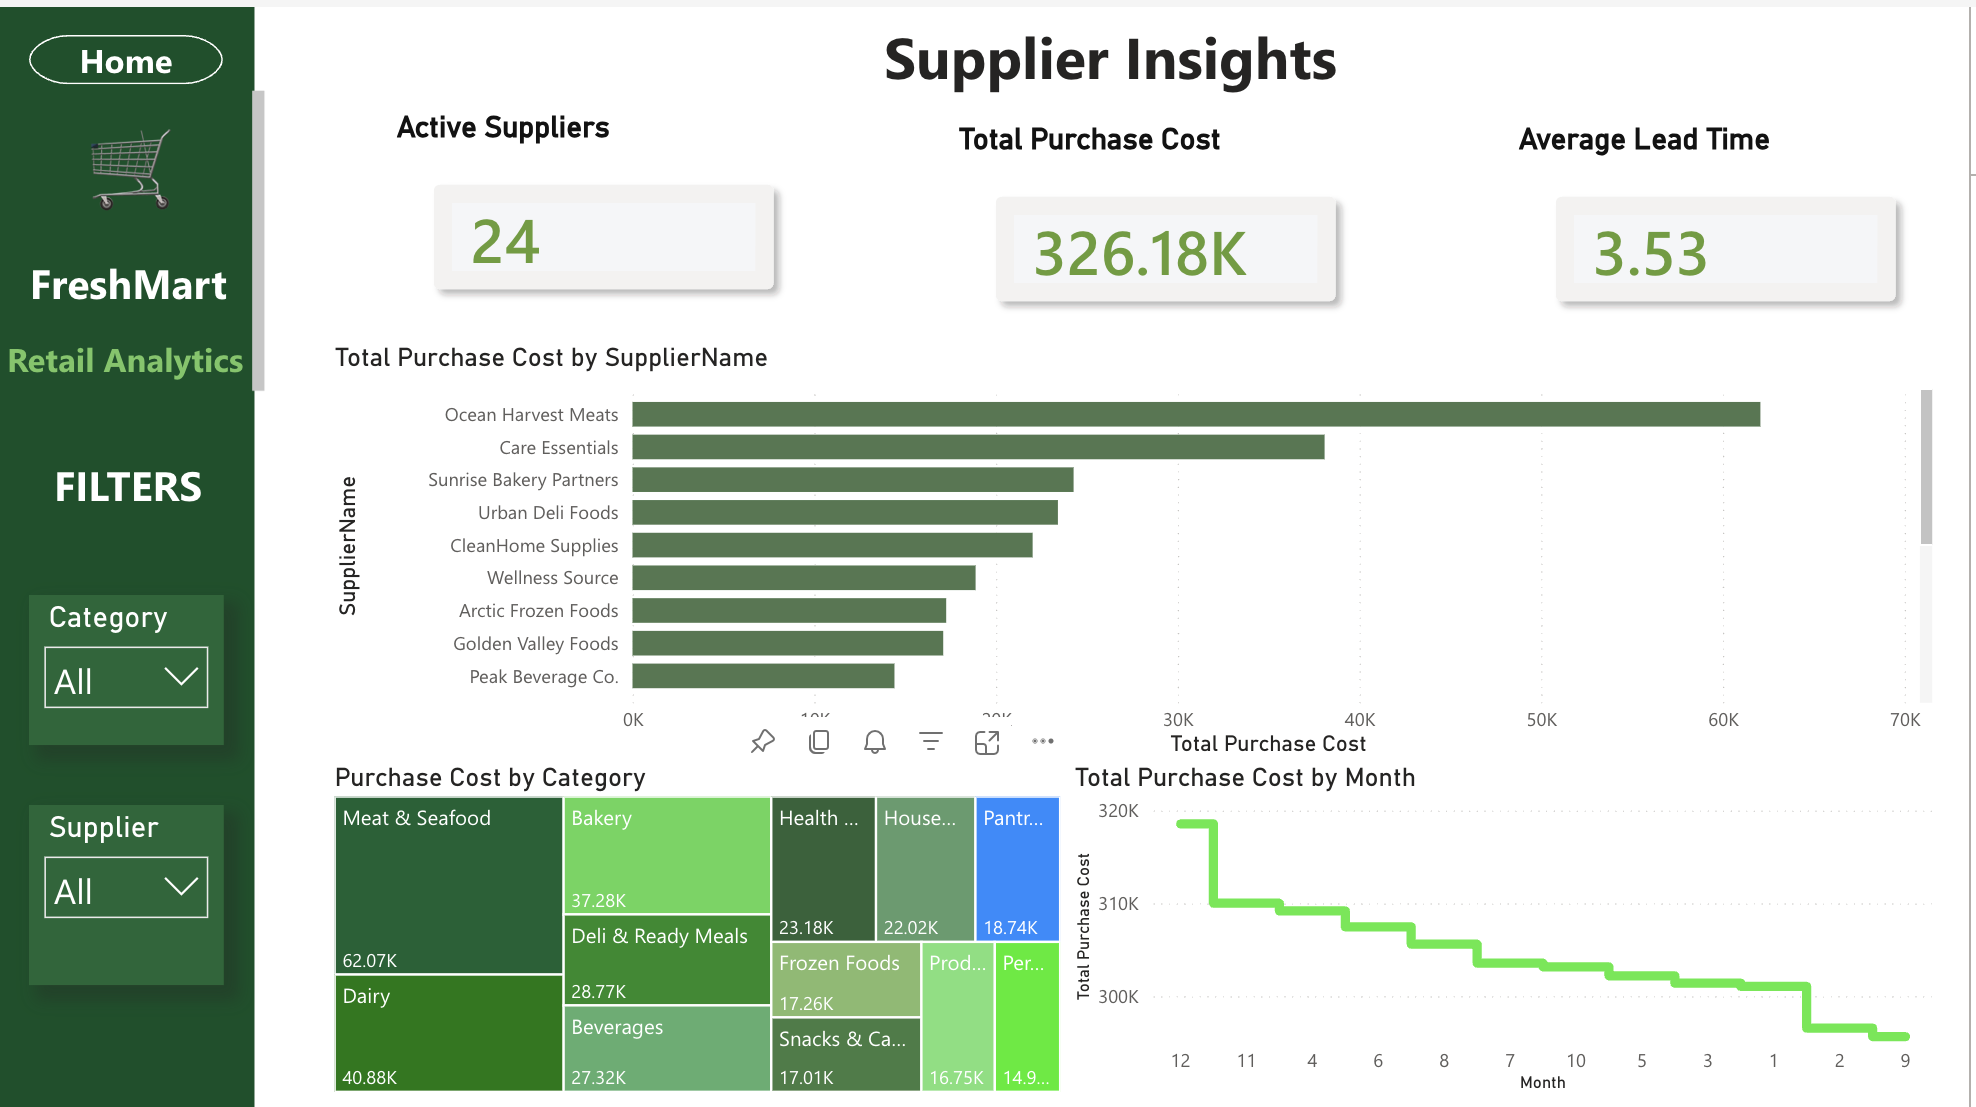

The dashboard page shown, as its layout file describes it:
{"tool":"powerbi","page":{"name":"Supplier Insights","canvas":[1280,720],"ordinal":4},"visuals":[{"type":"textbox","box":[353.2,1.7,737.3,67.2],"z":0},{"type":"shape","box":[0,0,166.1,719.9],"z":1000},{"type":"cardVisual","title":"Active Suppliers","fields":{"Data":["Measure.Active Suppliers"]},"box":[252.8,68.8,279,144],"z":2000},{"type":"cardVisual","title":"Total Purchase Cost","fields":{"Data":["Measure.Total Purchase Cost"]},"box":[619.2,76.8,279,144],"z":3000},{"type":"cardVisual","title":"Average Lead Time","fields":{"Data":["Measure.Average Lead Time"]},"box":[982.6,76.2,279,144],"z":4000},{"type":"clusteredBarChart","fields":{"Category":["Supplier_Master.SupplierName"],"Y":["Measure.Total Purchase Cost"]},"box":[213.3,220,1048,272],"z":5000},{"type":"treemap","title":"Purchase Cost by Category","fields":{"Group":["Categories.CategoryName"],"Values":["Measure.Total Purchase Cost"]},"box":[213.3,492,481.3,217.3],"z":6000},{"type":"lineChart","fields":{"Category":["DateDimension.Month"],"Y":["Measure.Total Purchase Cost"]},"box":[694,492,567,217],"z":7000},{"type":"textbox","box":[0,49.6,177.6,219.2],"z":8000},{"type":"pageNavigator","box":[19.2,17.6,126.4,32],"z":9000},{"type":"textbox","box":[1.6,268.8,164.8,249.6],"z":9001},{"type":"slicer","fields":{"Values":["Categories.CategoryName"]},"box":[19.2,382.4,126.4,97.6],"z":9002},{"type":"slicer","fields":{"Values":["Supplier_Master.SupplierName"]},"box":[19.2,518.4,126.4,116.8],"z":9003}]}

Visuals, with their boxes on the page's 1280x720 design canvas (x1, y1, x2, y2). These are canvas units, not pixel positions in the 1976x1107 screenshot, which may show the page scaled, cropped or inside an application window:
textbox: bbox(353, 2, 1090, 69)
shape: bbox(0, 0, 166, 720)
"Active Suppliers" cardVisual: bbox(253, 69, 532, 213)
"Total Purchase Cost" cardVisual: bbox(619, 77, 898, 221)
"Average Lead Time" cardVisual: bbox(983, 76, 1262, 220)
clusteredBarChart - Supplier_Master.SupplierName x Measure.Total Purchase Cost: bbox(213, 220, 1261, 492)
"Purchase Cost by Category" treemap: bbox(213, 492, 695, 709)
lineChart - DateDimension.Month x Measure.Total Purchase Cost: bbox(694, 492, 1261, 709)
textbox: bbox(0, 50, 178, 269)
pageNavigator: bbox(19, 18, 146, 50)
textbox: bbox(2, 269, 166, 518)
slicer - Categories.CategoryName: bbox(19, 382, 146, 480)
slicer - Supplier_Master.SupplierName: bbox(19, 518, 146, 635)
